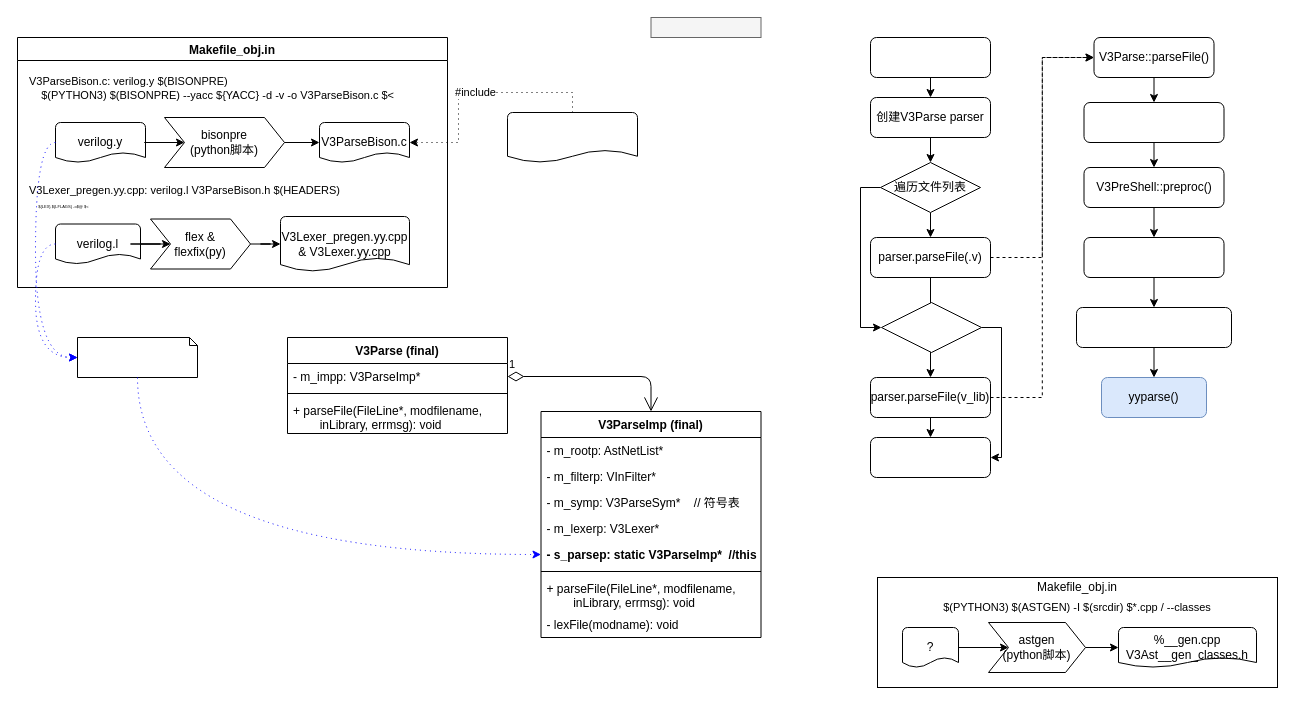
This 1295x705 diagram has some shape labels left out. The centre of each missing label's shape, as x and y in pixels:
"#define PARSEP V3ParseImp::parsep" goes at (x=137, y=357).
"V3Global::readFiles()" goes at (x=930, y=57).
"V3LinkCells::link" goes at (x=930, y=457).
"V3ParseGrammar.cpp" goes at (x=572, y=137).
"V3ParseImp::bisonParse()" goes at (x=1154, y=327).
"V3ParseImp::lexFile()" goes at (x=1153, y=257).
"V3ParseImp::parseFile()" goes at (x=1153, y=122).
"怎么生成AST的？" goes at (x=705, y=27).
"遍历lib列表" goes at (x=931, y=327).
